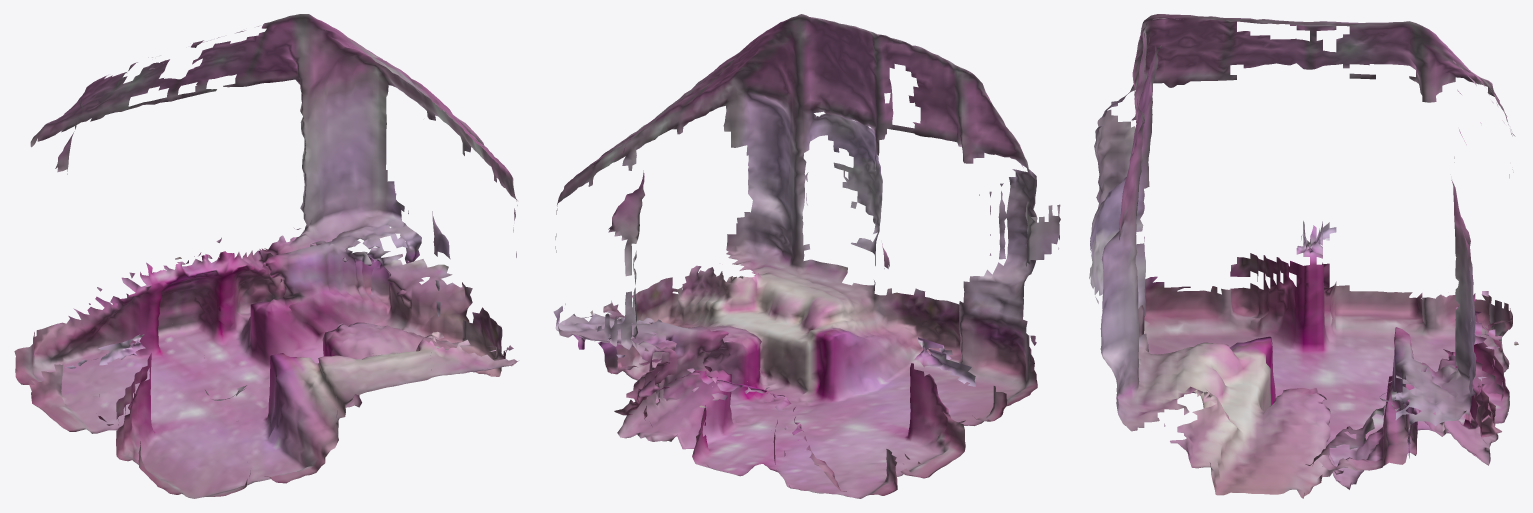
The model's file is glitter-frutiger-lounge-1-1-pano_collider.glb.
3 renders of one model, left to right at view 1: azimuth 30°, elevation 25°; view 2: azimuth 150°, elevation 25°; view 3: azimuth 270°, elevation 25°, orthographic. The views are drawn at different scales.
Parts seen in each view (by area): view 1: world; view 2: world; view 3: world.
Part boxes in pixels (x1,y1,x2,y2): world: (14,14,518,498); world: (553,14,1060,498); world: (1089,14,1518,498).
Size of the model in its own units: 5.07 by 4.35 by 4.47.
